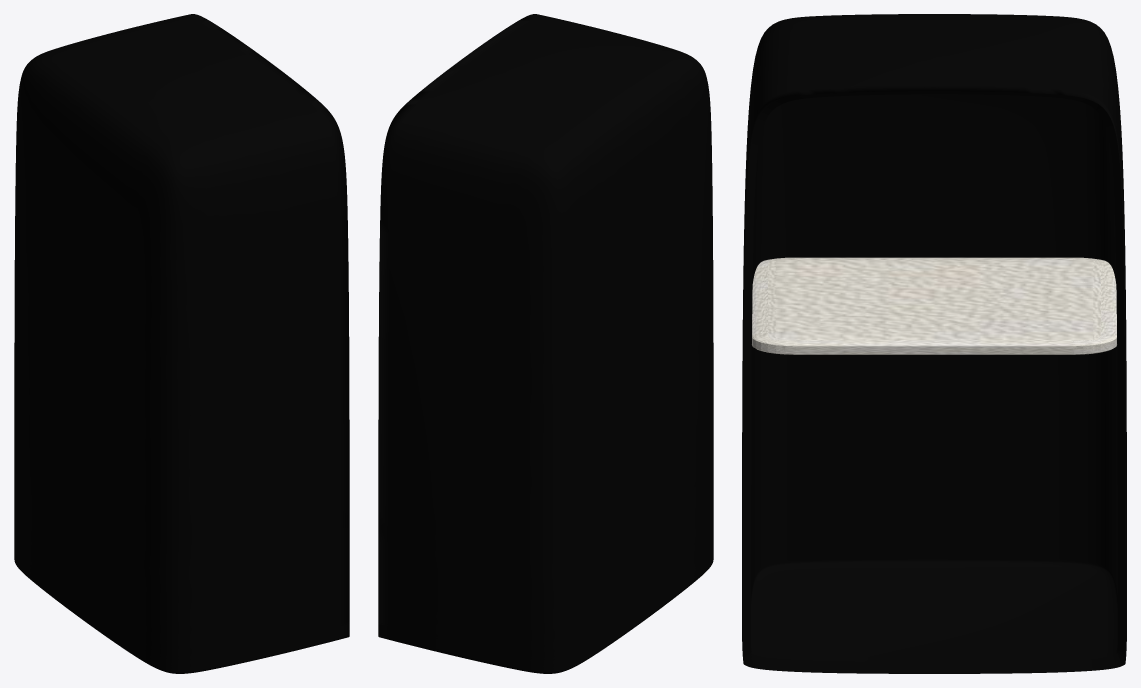
File: fridge_body.fbx
The picture shows the model from 3 angles, left to right: view 1: azimuth 30°, elevation 25°; view 2: azimuth 150°, elevation 25°; view 3: azimuth 270°, elevation 25°; orthographic projection. The views are drawn at different scales.
Parts seen in each view (by area): view 1: Body; view 2: Body; view 3: Body, Cube.
Boxes of the visible parts, left/top/right/bottom form: Body: left=14, top=14, right=349, bottom=673; Body: left=378, top=14, right=713, bottom=673; Body: left=742, top=14, right=1126, bottom=673; Cube: left=752, top=257, right=1116, bottom=354.
Size of the model in its own units: 294 by 809 by 483.
Materials: 2 (1 with a texture image).
